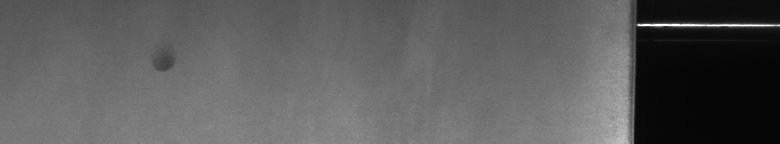fi: (149, 55, 176, 80)
